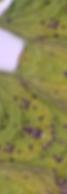Tomato Septoria leaf spot: (0, 47, 67, 161)
